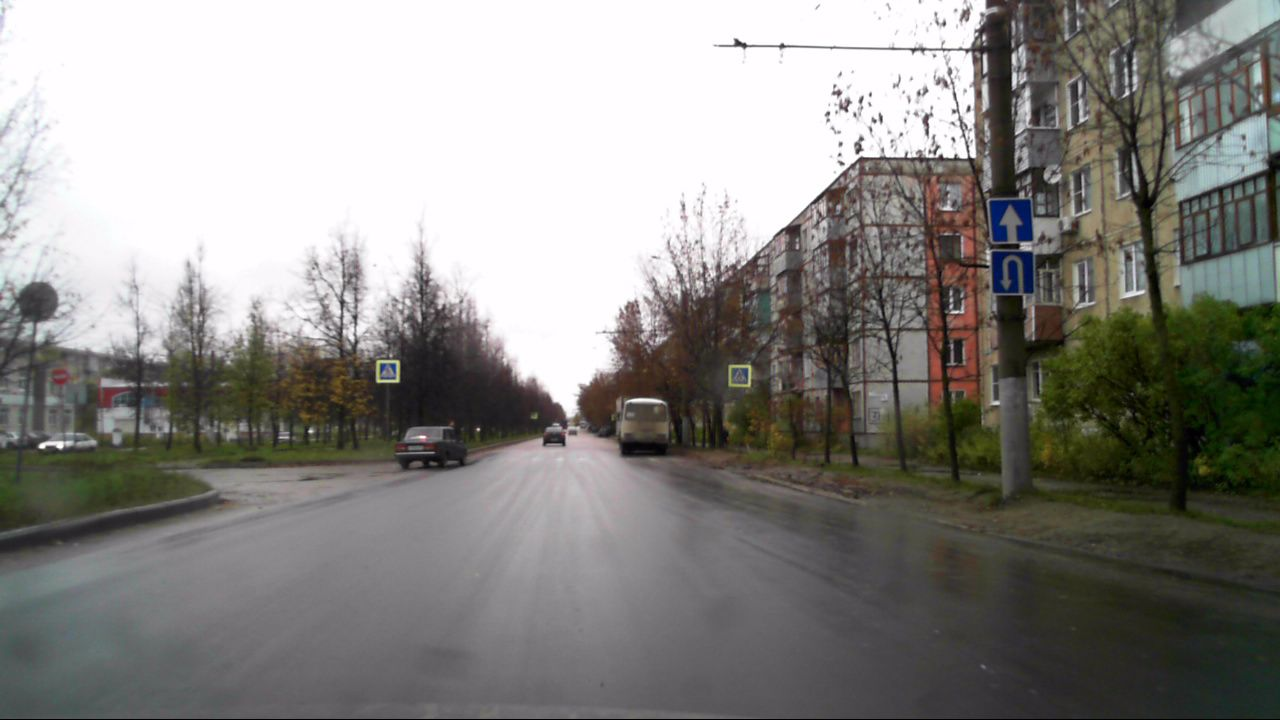U-turn: (992, 251, 1033, 295)
